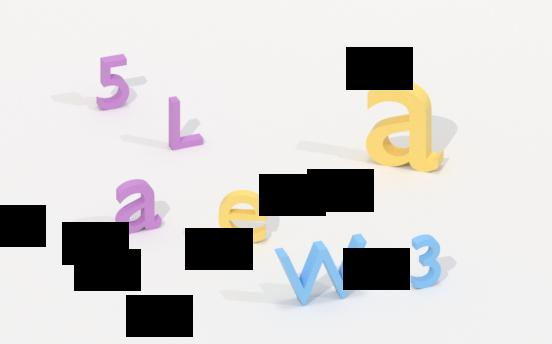3: (408, 233, 445, 293)
5: (92, 52, 137, 113)
a: (363, 76, 444, 178), (111, 178, 165, 233)
e: (215, 189, 275, 243)
l: (165, 91, 210, 152)
w: (271, 238, 369, 308)
